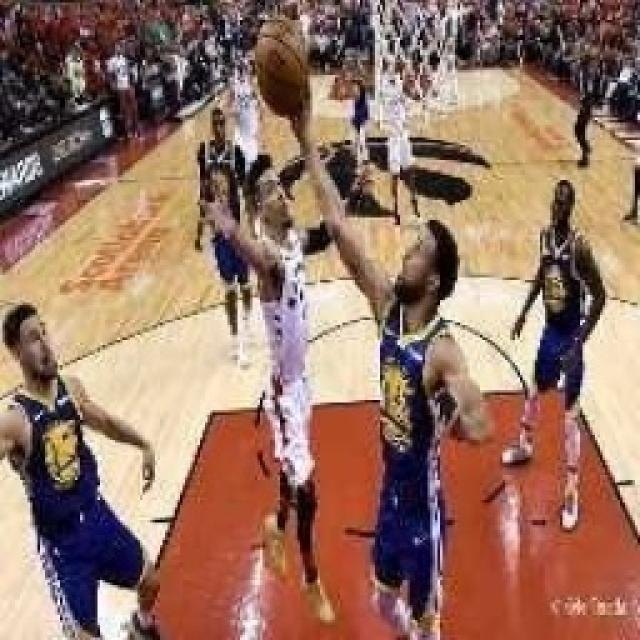basketball: (262, 22, 316, 110)
